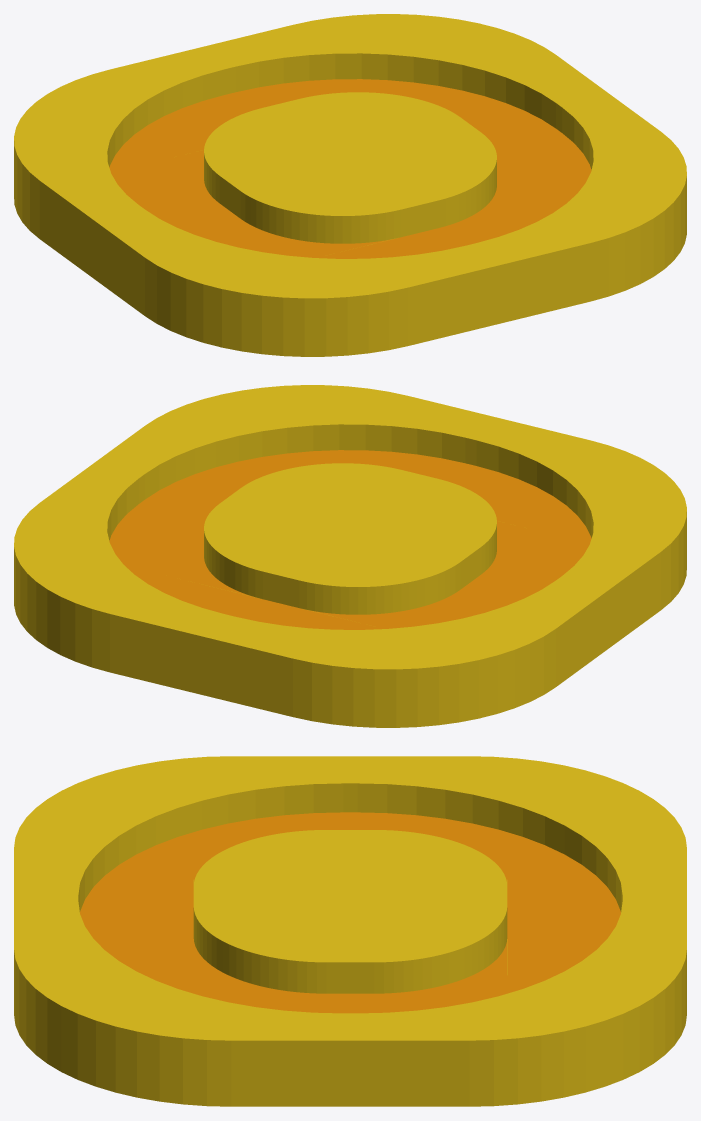
Rendered from coin.fbx.
3 views of the same model, one above another, from view 1: azimuth 30°, elevation 25°; view 2: azimuth 150°, elevation 25°; view 3: azimuth 270°, elevation 25° (orthographic). The views are drawn at different scales.
Parts seen in each view (by area): view 1: Cube; view 2: Cube; view 3: Cube.
Part boxes in pixels (left/top/right/bottom): Cube: left=14, top=14, right=686, bottom=356; Cube: left=14, top=385, right=686, bottom=727; Cube: left=14, top=756, right=686, bottom=1106.
Size of the model in its own units: 200 by 23.18 by 200.
